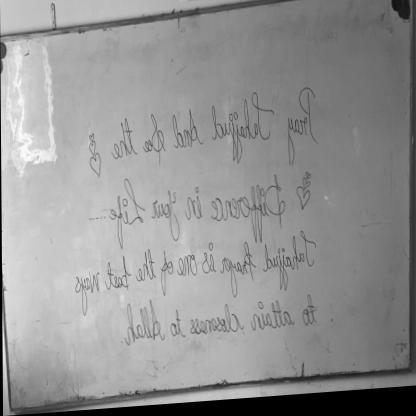Handwritten text: (114, 83, 320, 178), (68, 234, 326, 309), (110, 290, 342, 367), (109, 169, 288, 251)
